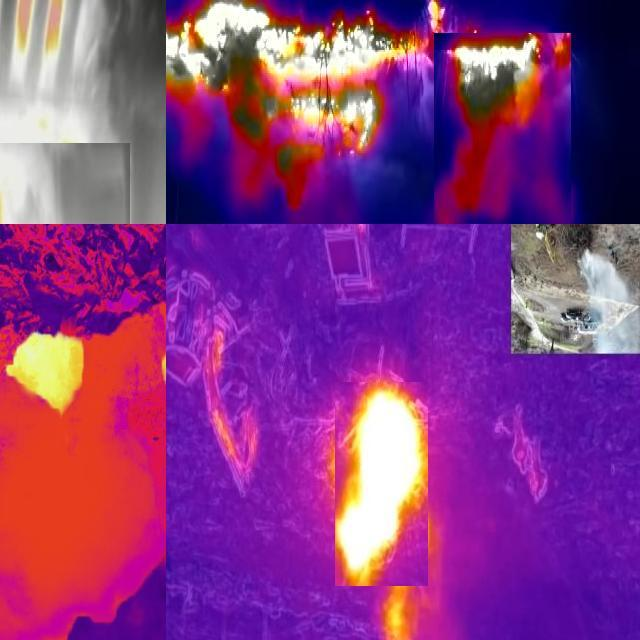fire: (167, 1, 423, 209), (435, 34, 572, 225), (336, 383, 429, 587), (1, 305, 116, 442), (1, 144, 131, 225), (142, 293, 167, 405)
